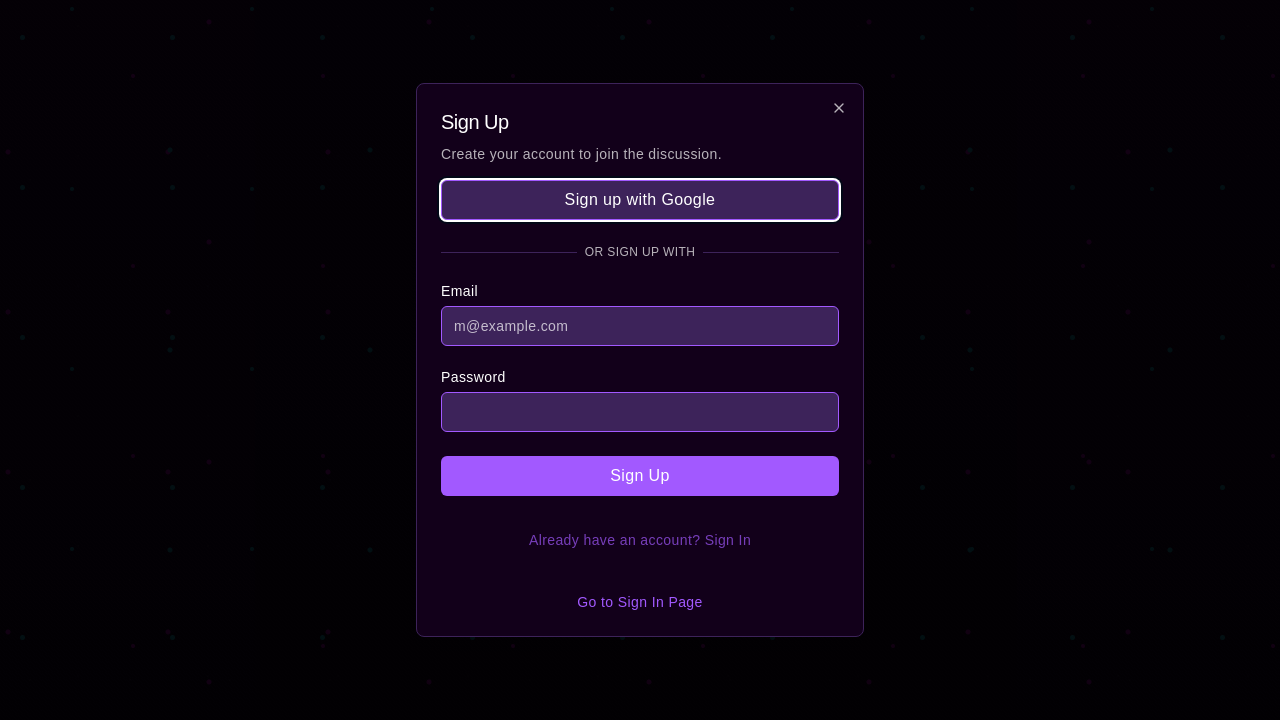
AuthModal › switches to sign up form when "Sign Up" button is clicked
Click the button "Already have an account? Sign In".
click(640, 540)  # box top-left (441, 520), bottom-right (839, 560)
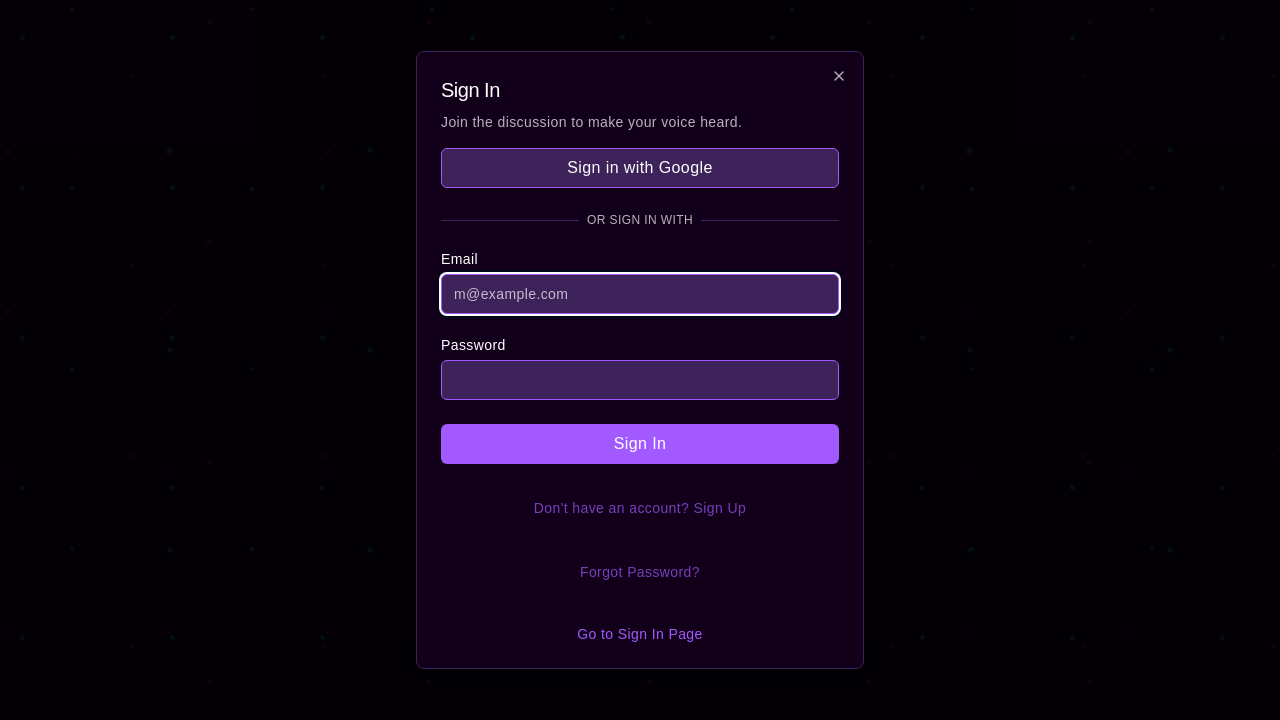
Expected: the heading "Sign In" is shown, top-left (441, 79), bottom-right (500, 101)
Click the button "Don't have an account? Sign Up".
click(640, 508)  # box top-left (441, 488), bottom-right (839, 528)
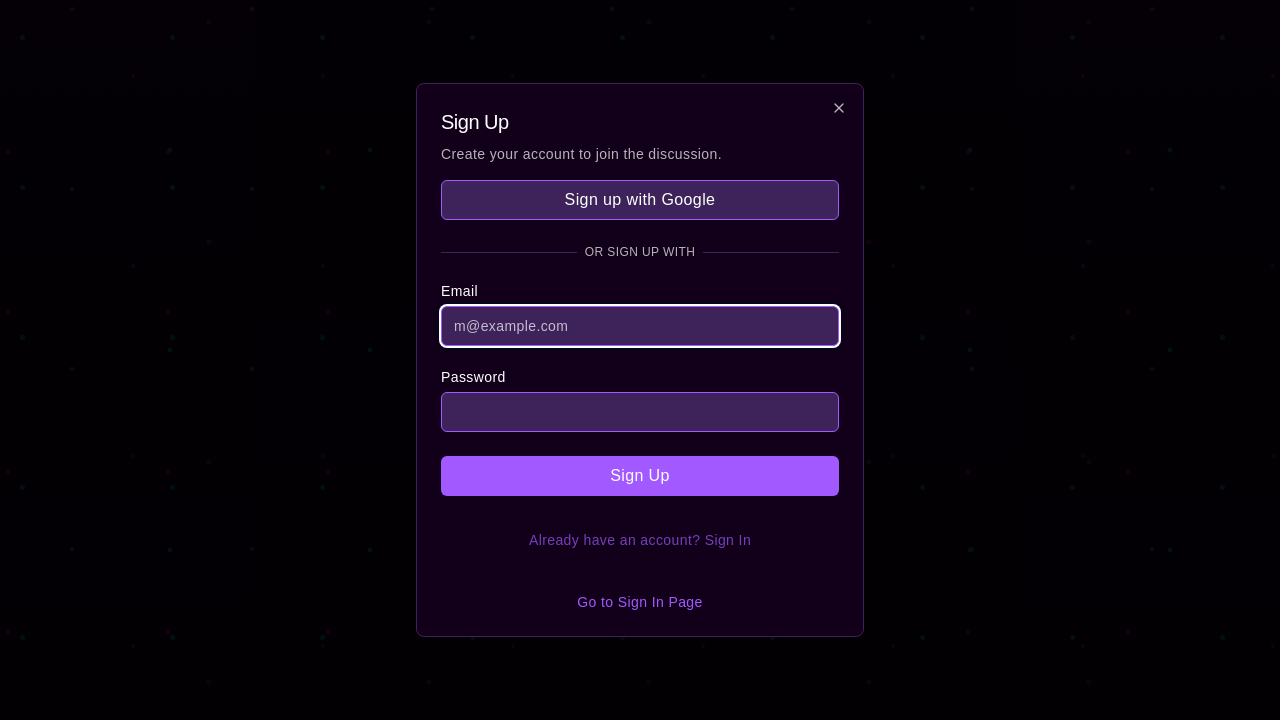
Expected: the heading "Sign Up" is shown, top-left (441, 111), bottom-right (509, 133)
